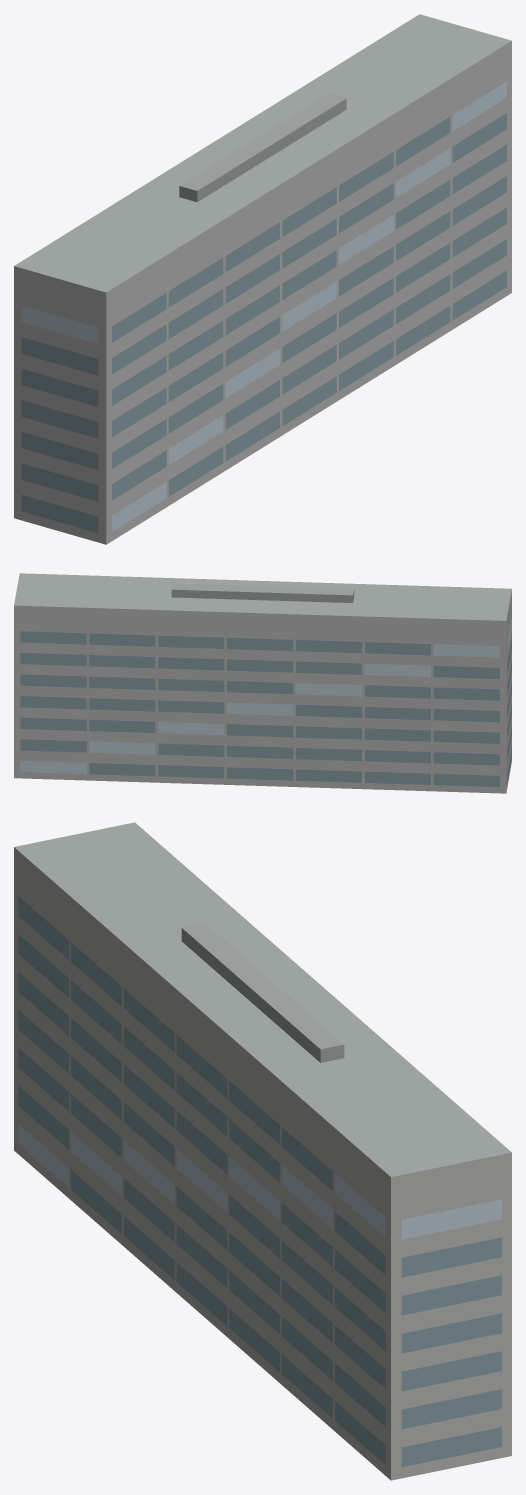
File: fallback-olympic-athletes-village-307.glb
3 renders of one model, top to bottom at view 1: azimuth 30°, elevation 25°; view 2: azimuth 150°, elevation 25°; view 3: azimuth 270°, elevation 25°, orthographic. The views are drawn at different scales.
Parts seen in each view (by area): view 1: fallback-olympic-athletes-village-307; view 2: fallback-olympic-athletes-village-307; view 3: fallback-olympic-athletes-village-307.
Boxes of the visible parts, box(x1,y1,x2,y2) form: fallback-olympic-athletes-village-307: box(14, 14, 511, 544); fallback-olympic-athletes-village-307: box(14, 573, 511, 793); fallback-olympic-athletes-village-307: box(14, 822, 511, 1480).
Bounding box in the file's own units: 61.19 × 25.5 × 36.29.
